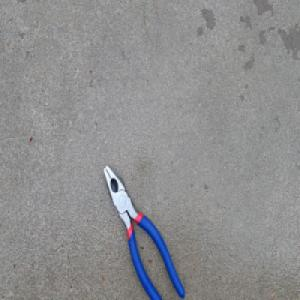Pliers: (102, 164, 184, 299)
